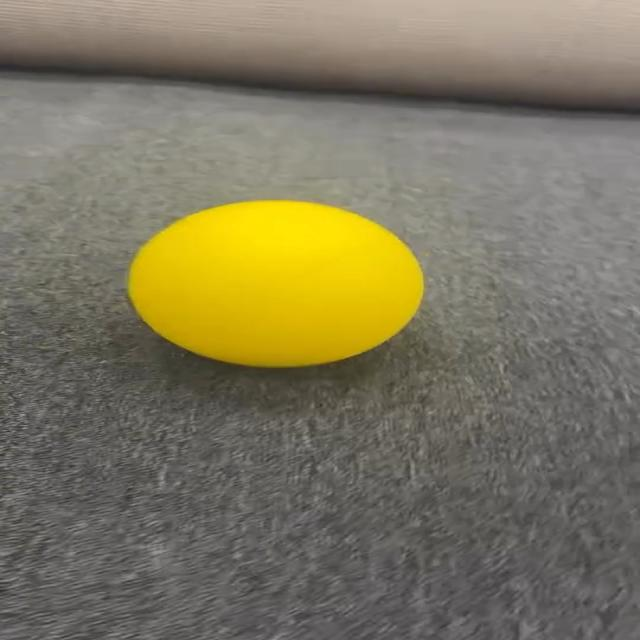Fuels: (130, 201, 422, 364)
